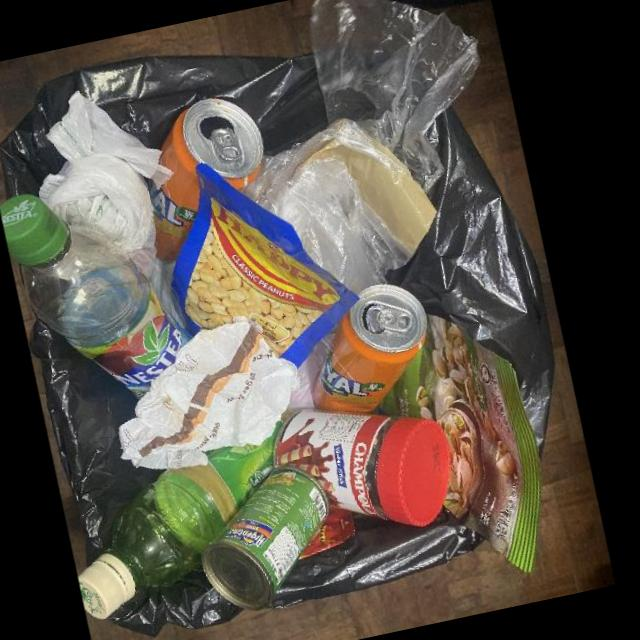bao_bi_thuc_pham: (371, 312, 541, 572), (169, 161, 359, 366), (297, 495, 355, 560)
chai_nhua: (77, 408, 292, 618)
chai_nhua_pet: (0, 193, 192, 399)
giay: (118, 315, 297, 468)
hop_nhua: (272, 408, 450, 526)
nhom: (201, 464, 329, 610), (151, 96, 263, 260), (312, 283, 426, 413)
tui_ni_long: (239, 0, 479, 293), (38, 89, 173, 277)
